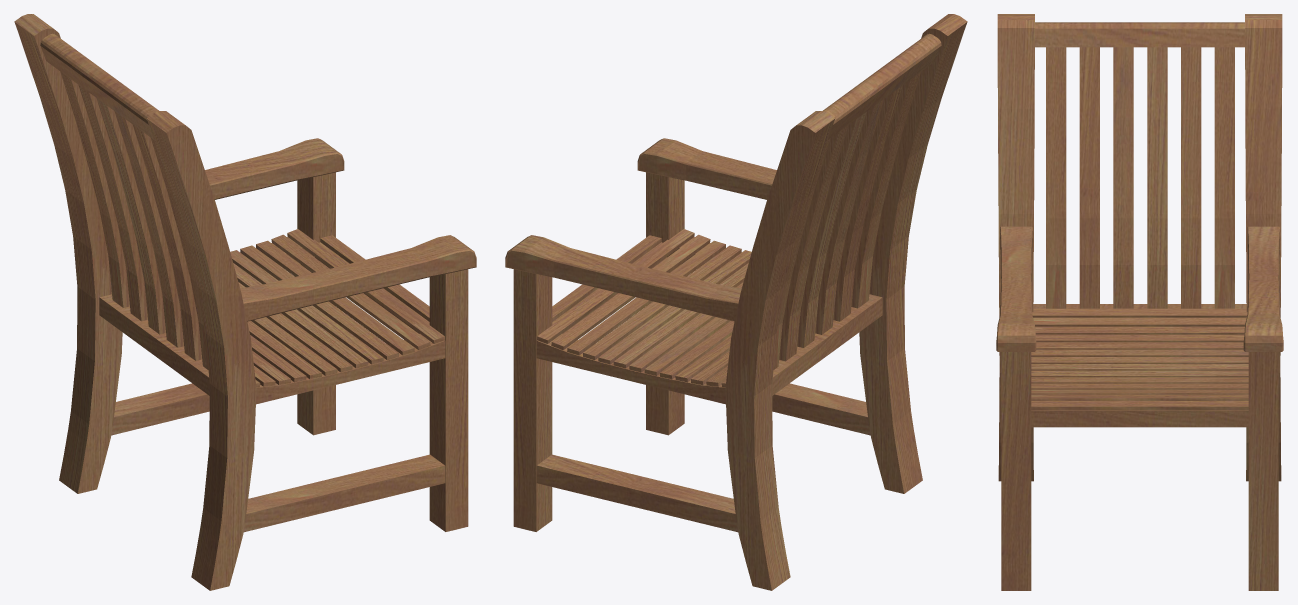
Rendered from silla_teca.obj.
The picture shows the model from 3 angles, left to right: view 1: azimuth 30°, elevation 25°; view 2: azimuth 150°, elevation 25°; view 3: azimuth 270°, elevation 25°; orthographic projection. The views are drawn at different scales.
Parts seen in each view (by area): view 1: theca_chair_Cube.001; view 2: theca_chair_Cube.001; view 3: theca_chair_Cube.001.
Part boxes in pixels (box(x1,y1,x2,y2)): theca_chair_Cube.001: box(14, 14, 476, 590); theca_chair_Cube.001: box(505, 14, 967, 590); theca_chair_Cube.001: box(996, 14, 1283, 590).
Bounding box in the file's own units: 0.5724 × 0.8348 × 0.4915.
